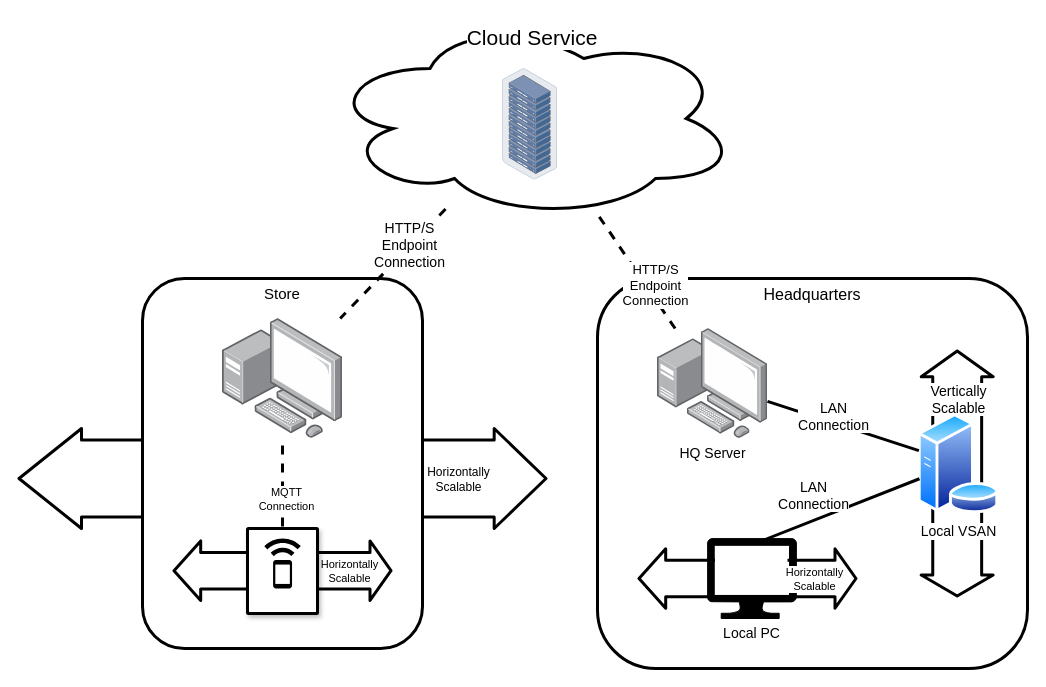
The diagram is 1046 pixels wide and 687 high, and some of its shapes have lost their labels. Here are the shapes that lost their labels. From the top down, the centre of each, then its label:
At (x=282, y=378): "Local Server".
At (x=283, y=572): "Beacon".
